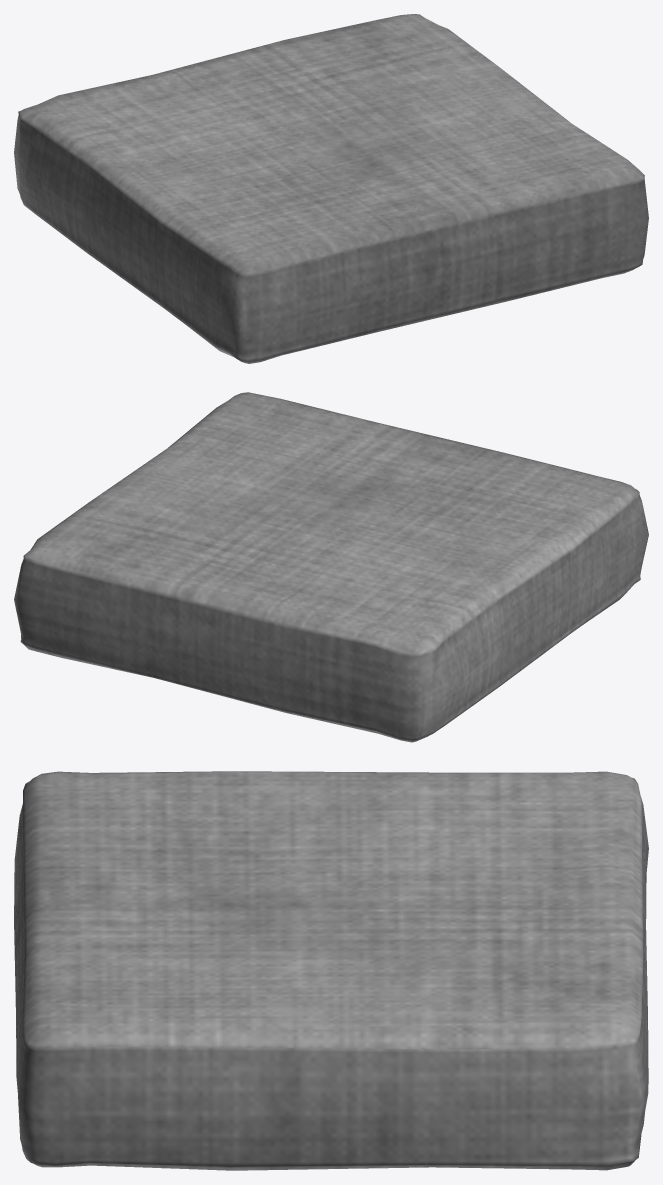
The model's file is Cushion 4.FBX.
3 renders of one model, top to bottom at view 1: azimuth 30°, elevation 25°; view 2: azimuth 150°, elevation 25°; view 3: azimuth 270°, elevation 25°, orthographic. The views are drawn at different scales.
Visible parts, largest first — view 1: Cushion04; view 2: Cushion04; view 3: Cushion04.
Boxes of the visible parts, x1,y1,x2,y2 form: Cushion04: (14, 14, 648, 363); Cushion04: (14, 392, 648, 742); Cushion04: (14, 771, 648, 1170).
Bounding box in the file's own units: 98.36 × 23.19 × 94.3.
